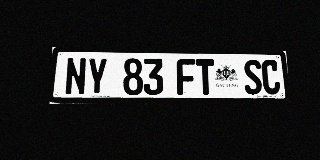3: (144, 58, 163, 95)
8: (123, 58, 143, 95)
C: (261, 60, 281, 94)
F: (176, 59, 196, 95)
N: (64, 57, 87, 95)
S: (243, 60, 263, 95)
T: (196, 59, 215, 95)
Y: (86, 58, 107, 95)
